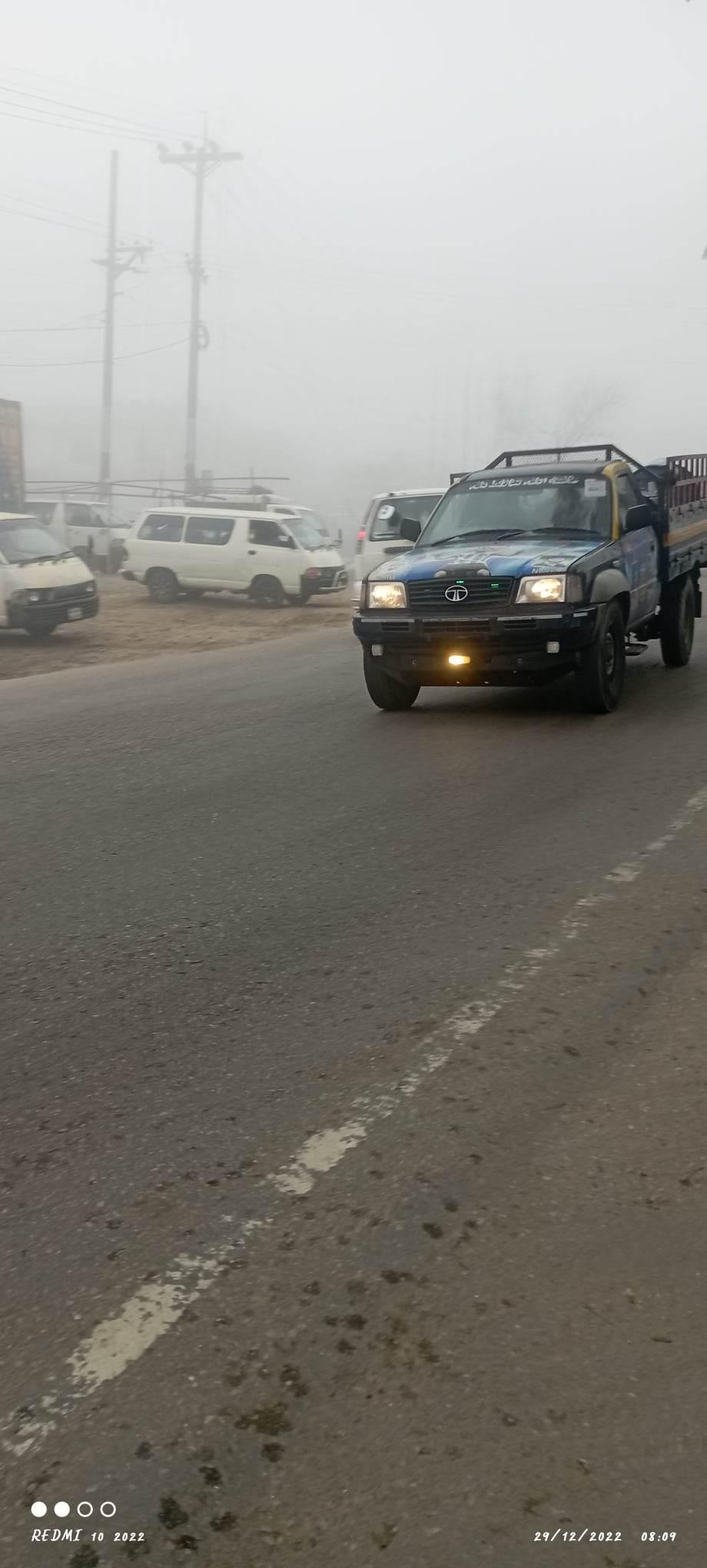Car: (119, 477, 347, 629), (1, 483, 112, 679)
Truck: (351, 422, 707, 745)
